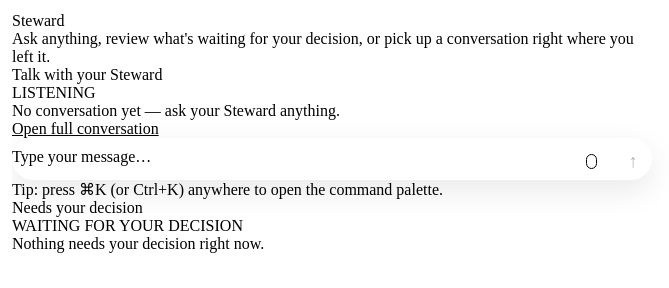
StewardHome › lets a member ask a question and see the reply, without leaving the page
This screenshot has width=669, height=288.
Type "What is a Journey?" into the text box at [292, 159], box [12,138,573,180]
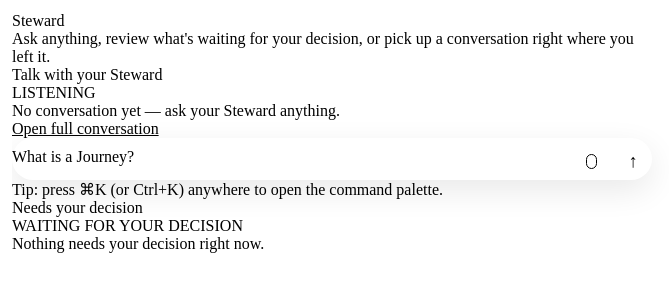
Click the button named "Send" at [633, 162], box [614,143,652,180]
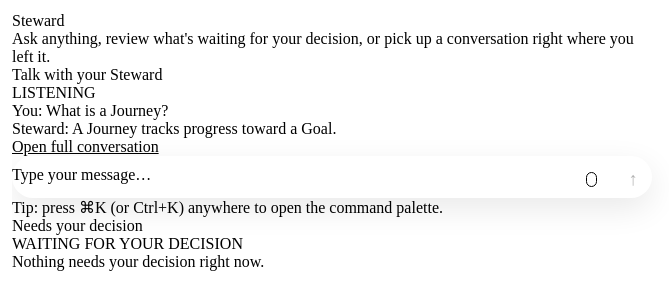
Check: the text "A Journey tracks progress toward a Goal." is shown, box [72,120,336,137]
